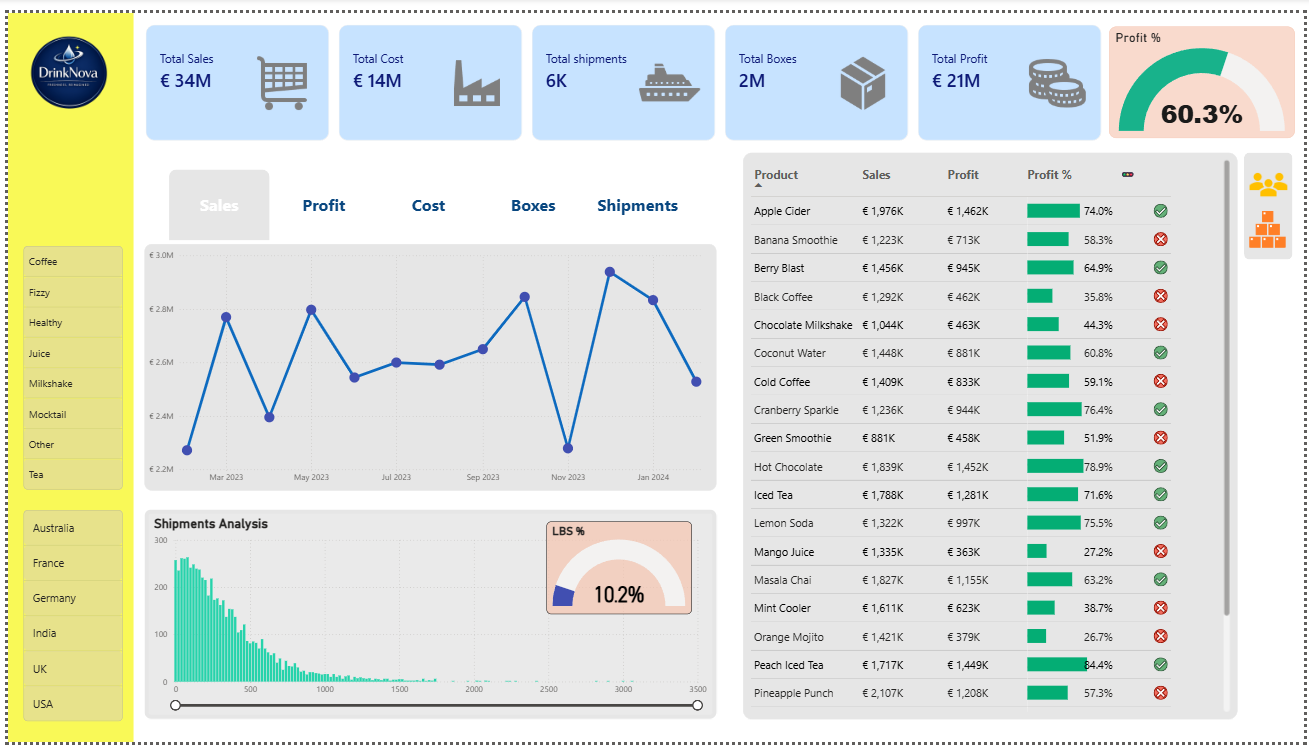

Layout of this report page (visuals, bound fields, positions):
{"tool":"powerbi","page":{"name":"Page 5","canvas":[1920,1080],"ordinal":1},"visuals":[{"type":"cardVisual","fields":{"Data":["Table.Total Sales","Table.Total Cost","Table.Total shipments","Table.Total Boxes","Table.Total Profit"]},"box":[186.2,0,1450,206.2],"z":1000},{"type":"shape","box":[0,0,186,1080],"z":1500},{"type":"gauge","fields":{"Y":["Table.Percetage Profit"]},"box":[1630,20,275,165],"z":2000},{"type":"image","box":[2.9,11.4,175.7,161.4],"z":3000},{"type":"lineChart","fields":{"Y":["Table.Total Sales"],"Category":["calendar.Start of Month"]},"box":[202.5,342.5,847.5,365],"z":4000},{"type":"advancedSlicerVisual","fields":{"Values":["Measure Selector.Measure Selector"]},"box":[232.5,227.5,780,115],"z":5000},{"type":"clusteredColumnChart","title":"Shipments Analysis","fields":{"Category":["shipments.Boxes (bins)"],"Y":["Table.Total shipments"]},"box":[202.5,735,847.5,310],"z":6000},{"type":"gauge","title":"LBS %","fields":{"Y":["Table.LBS Percentage"]},"box":[797.5,752.5,215,137.5],"z":7000},{"type":"tableEx","title":"people table","fields":{"Values":["people.Picture","people.Sales person","Table.Total Sales","Table.Total Profit","Table.Percetage Profit","Table.Profit Target Indicator"]},"box":[1088.6,207.1,732.9,838.6],"z":8000},{"type":"shape","box":[1830.6,206.9,71.9,158.8],"z":10500},{"type":"advancedSlicerVisual","fields":{"Values":["products.Category"]},"box":[18.6,340,157.1,375.7],"z":14000},{"type":"image","title":"people image","box":[1832.2,221.1,67.8,63.9],"z":14250},{"type":"advancedSlicerVisual","fields":{"Values":["locations.Geo"]},"box":[18.6,730,157.1,325.7],"z":14500},{"type":"image","title":"product image","box":[1835.6,292.5,60.6,54.4],"z":15000}]}

Visuals, with their boxes in screenshot pixels (x1, y1, x2, y2), scaled from the page's 1920x1080 canvas onto the 1309x747 screenshot:
cardVisual - Table.Total Sales x Table.Total Cost: x1=127, y1=0, x2=1116, y2=143
shape: x1=0, y1=0, x2=127, y2=746
gauge - Table.Percetage Profit: x1=1111, y1=14, x2=1299, y2=128
image: x1=2, y1=8, x2=122, y2=120
lineChart - Table.Total Sales x calendar.Start of Month: x1=138, y1=237, x2=716, y2=489
advancedSlicerVisual - Measure Selector.Measure Selector: x1=159, y1=157, x2=690, y2=237
"Shipments Analysis" clusteredColumnChart: x1=138, y1=508, x2=716, y2=723
"LBS %" gauge: x1=544, y1=520, x2=690, y2=616
"people table" tableEx: x1=742, y1=143, x2=1242, y2=723
shape: x1=1248, y1=143, x2=1297, y2=253
advancedSlicerVisual - products.Category: x1=13, y1=235, x2=120, y2=495
"people image" image: x1=1249, y1=153, x2=1295, y2=197
advancedSlicerVisual - locations.Geo: x1=13, y1=505, x2=120, y2=730
"product image" image: x1=1251, y1=202, x2=1293, y2=240
